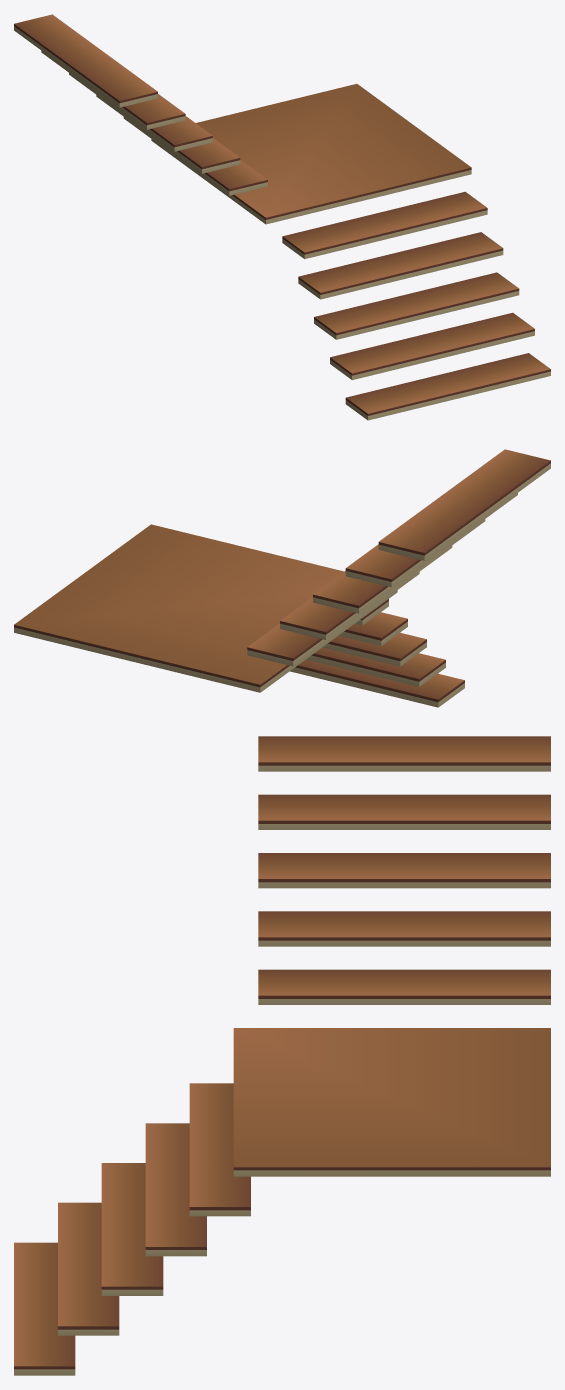
The model's file is TSP_House_Stairs_Corner_01C.R.fbx.
3 renders of one model, top to bottom at view 1: azimuth 30°, elevation 25°; view 2: azimuth 150°, elevation 25°; view 3: azimuth 270°, elevation 25°, orthographic. The views are drawn at different scales.
Visible parts, largest first — view 1: TSP_House_Stairs_Corner_01C.R; view 2: TSP_House_Stairs_Corner_01C.R; view 3: TSP_House_Stairs_Corner_01C.R.
Part boxes in pixels (x1,y1,x2,y2): TSP_House_Stairs_Corner_01C.R: (14, 14, 550, 420); TSP_House_Stairs_Corner_01C.R: (14, 449, 550, 707); TSP_House_Stairs_Corner_01C.R: (14, 736, 550, 1375).
Bounding box in the file's own units: 3.75 × 3.07 × 3.67.
